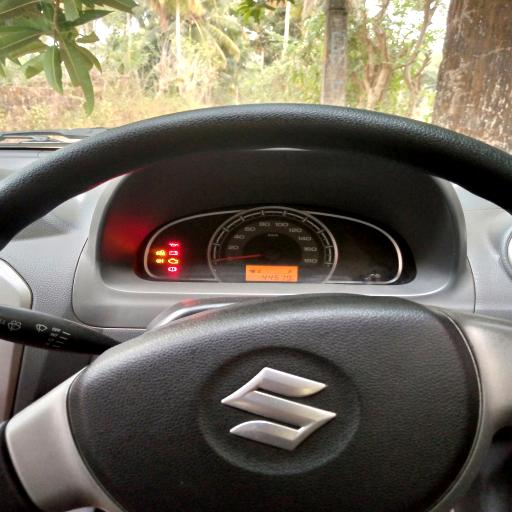brake_system_fault: (169, 266, 177, 272)
car_closed: (156, 250, 165, 256)
check_engine: (168, 258, 178, 264)
oil: (169, 242, 179, 247)
vehicle_charging: (169, 250, 178, 256)
